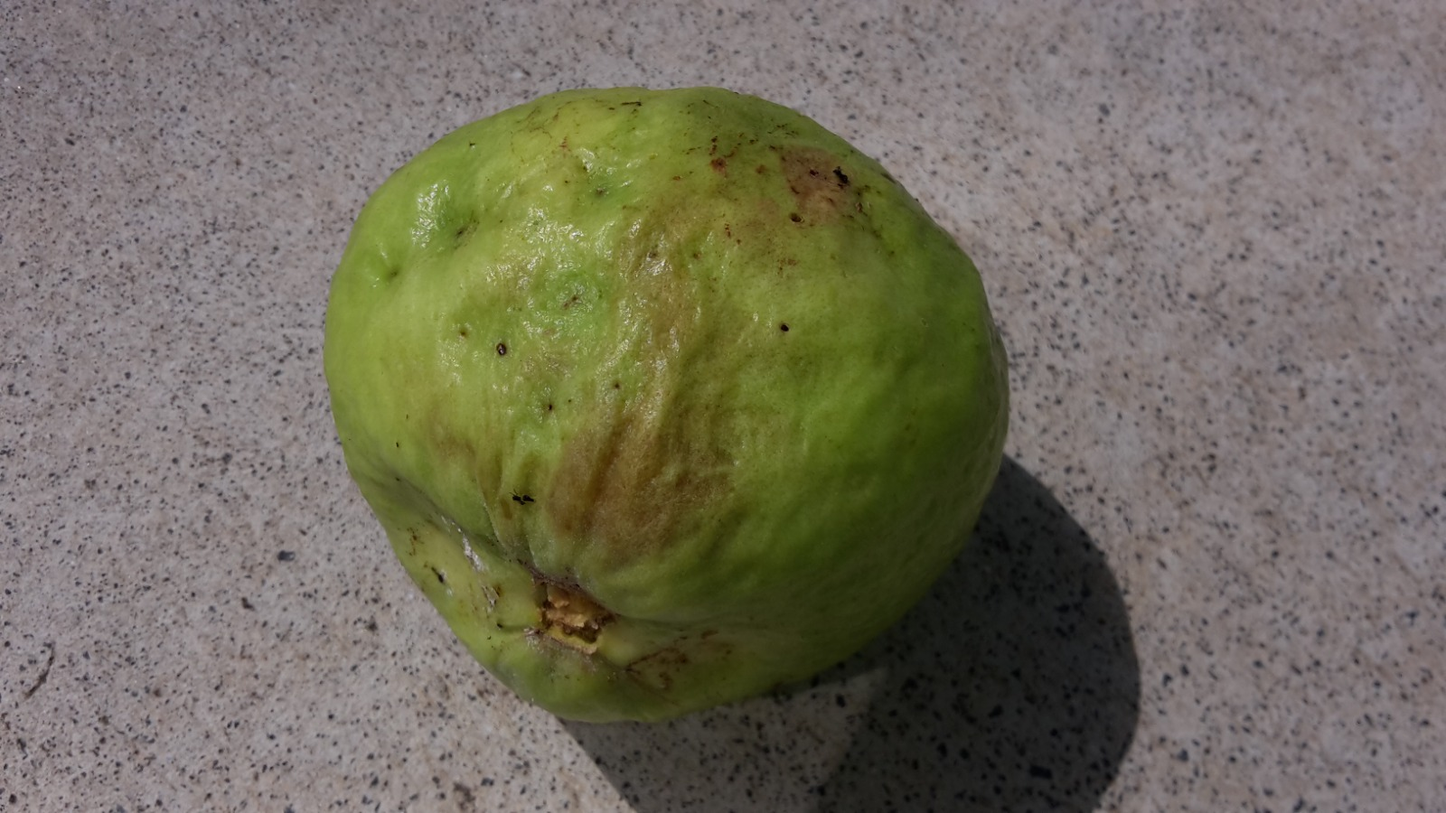guava: (181, 77, 1053, 708)
